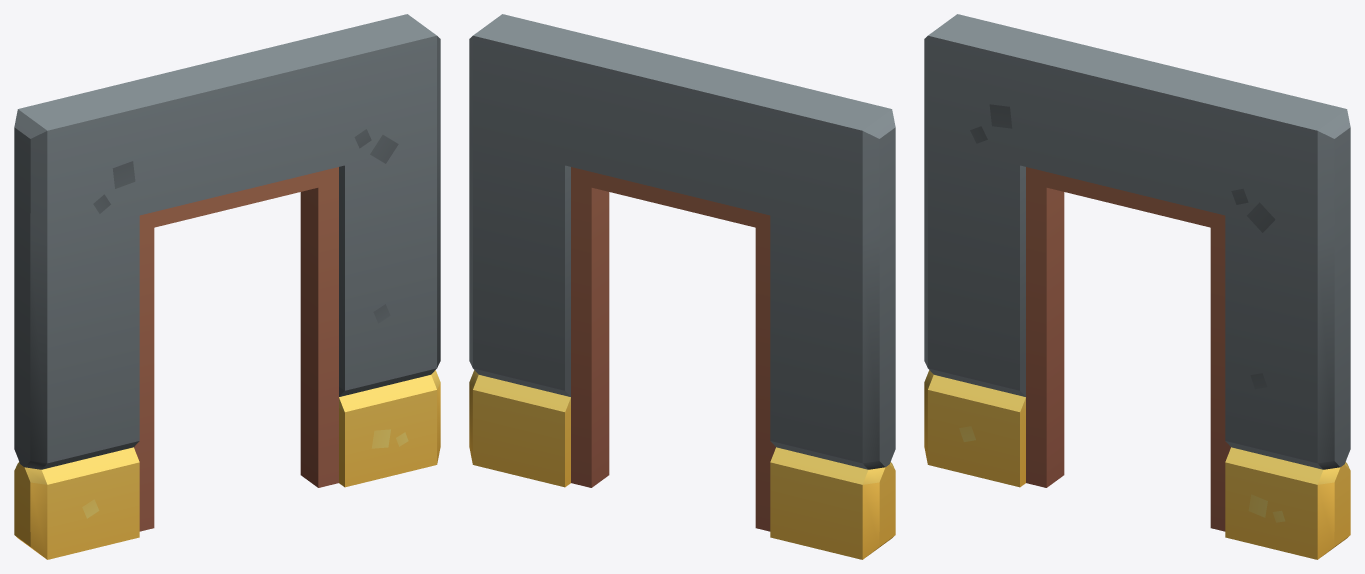
Rendered from Wall_Doorway.glb.
3 views of the same model, side by side, from view 1: azimuth 30°, elevation 25°; view 2: azimuth 150°, elevation 25°; view 3: azimuth 330°, elevation 25° (orthographic).
Parts seen in each view (by area): view 1: Wall_Doorway; view 2: Wall_Doorway; view 3: Wall_Doorway.
Boxes of the visible parts, bbox=[...] form: Wall_Doorway: bbox=[14, 14, 440, 559]; Wall_Doorway: bbox=[469, 14, 895, 559]; Wall_Doorway: bbox=[924, 14, 1350, 559].
Bounding box in the file's own units: 4 × 4 × 0.53.
Materials: 1 (1 with a texture image).
